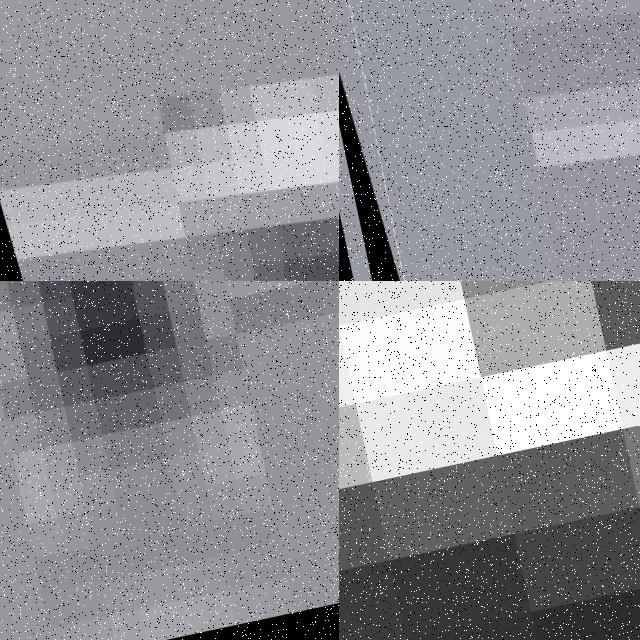drone: (0, 0, 339, 281), (339, 0, 640, 281)
